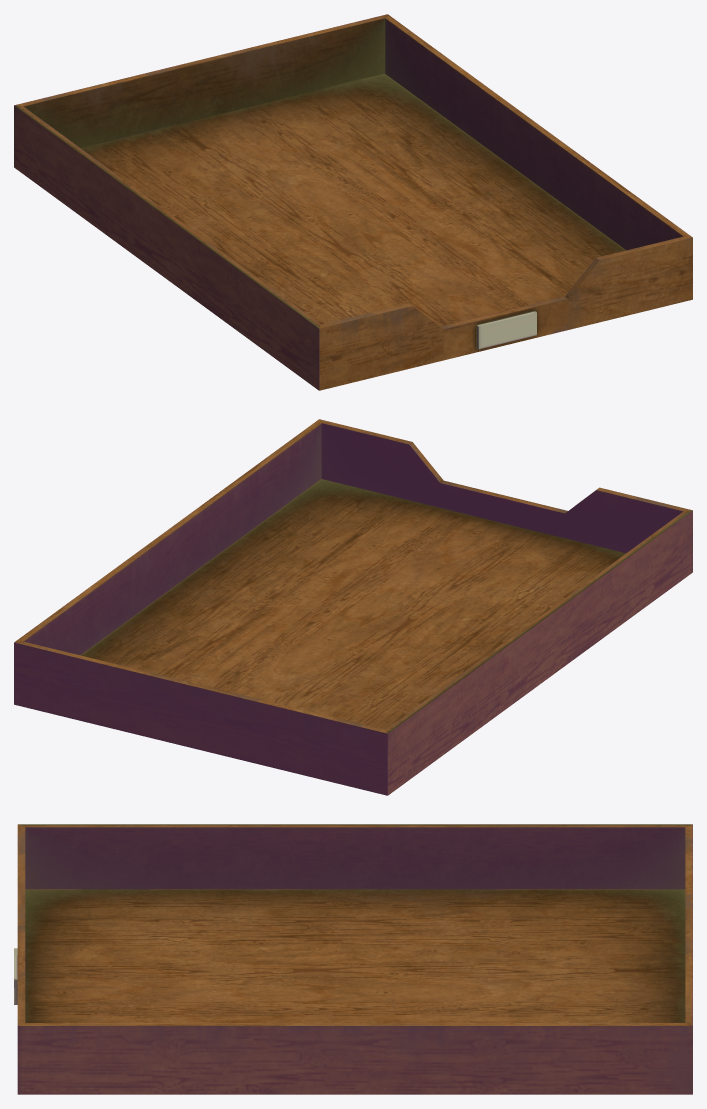
File: In and Out Basket.fbx
3 views of the same model, one above another, from view 1: azimuth 30°, elevation 25°; view 2: azimuth 150°, elevation 25°; view 3: azimuth 270°, elevation 25° (orthographic). The views are drawn at different scales.
Parts seen in each view (by area): view 1: In and Out Basket; view 2: In and Out Basket; view 3: In and Out Basket.
Boxes of the visible parts, x1,y1,x2,y2 form: In and Out Basket: [14, 14, 692, 390]; In and Out Basket: [14, 419, 692, 795]; In and Out Basket: [14, 824, 692, 1094].
Size of the model in its own units: 31.5 by 5 by 44.8.
